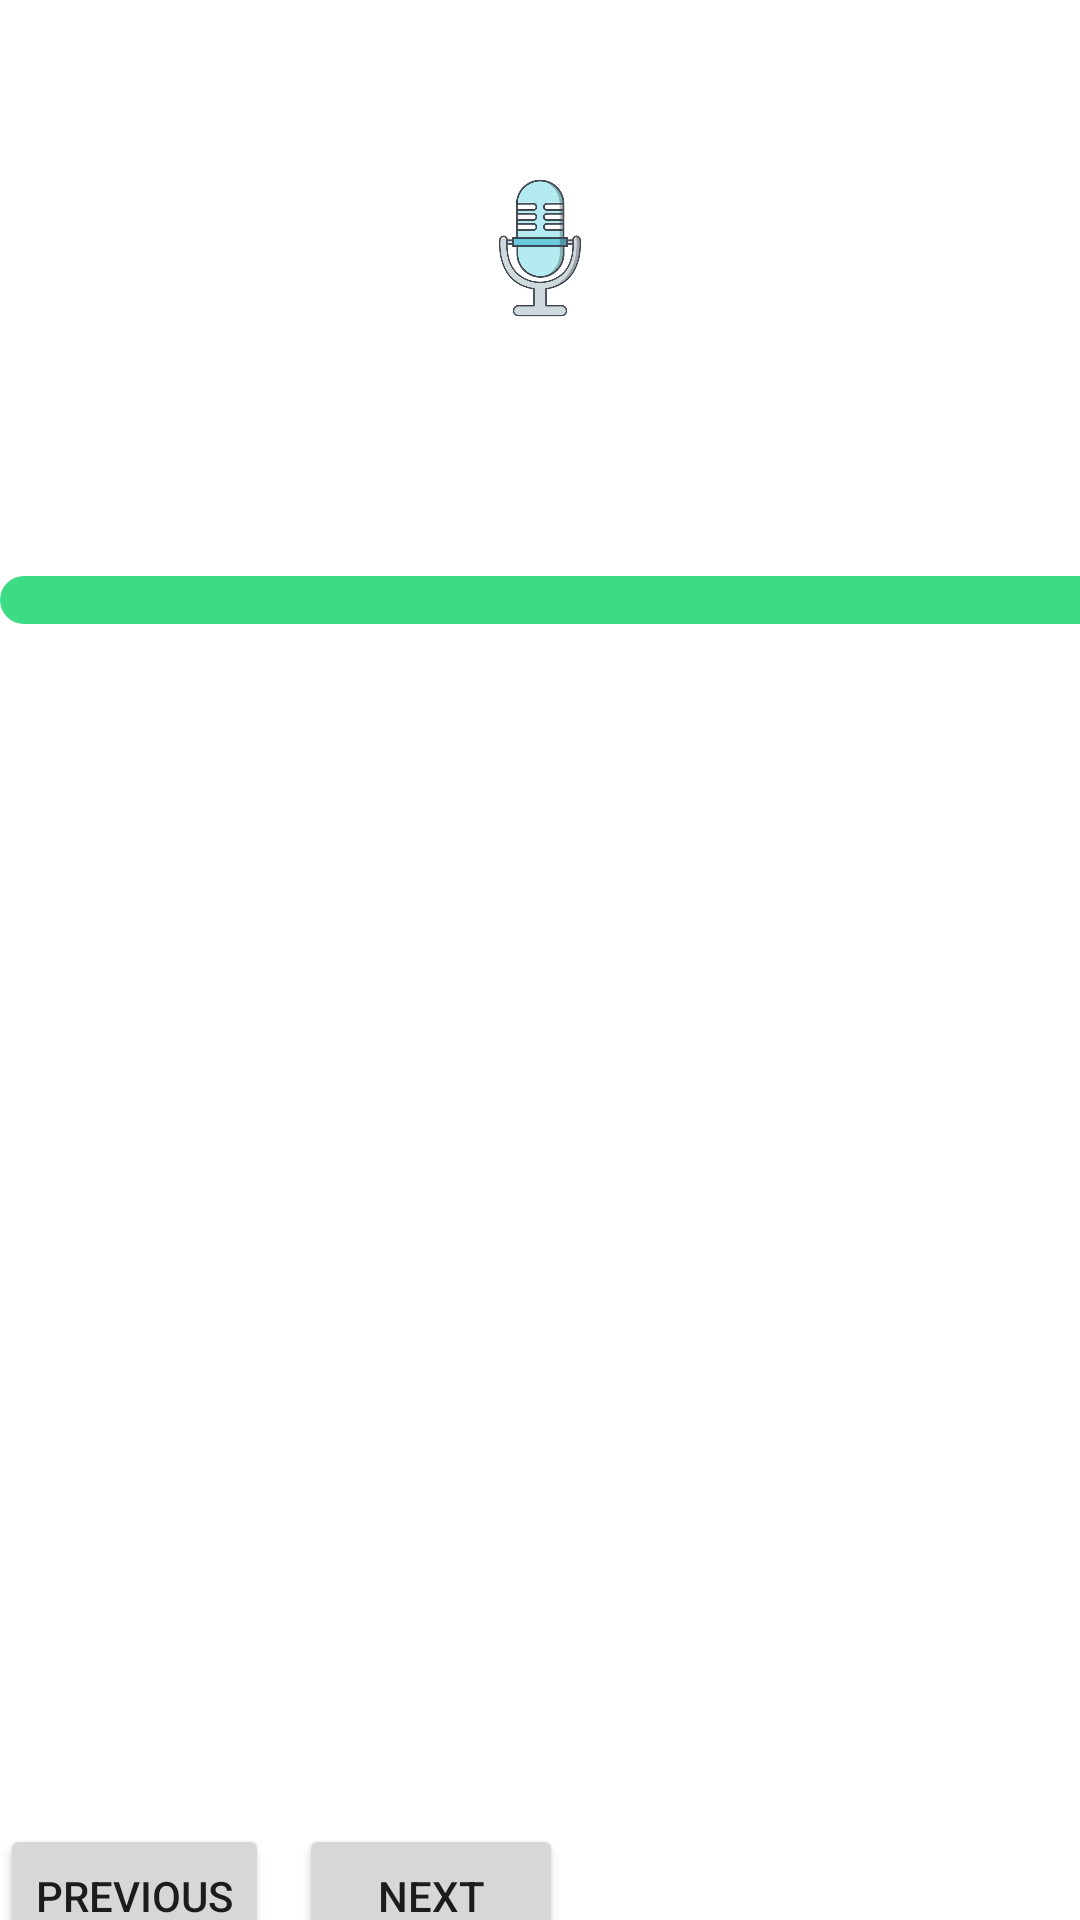

Screen size 1080 × 1920. Icon name, then its center in pixels as [x,y]:
mick: [540,248]
